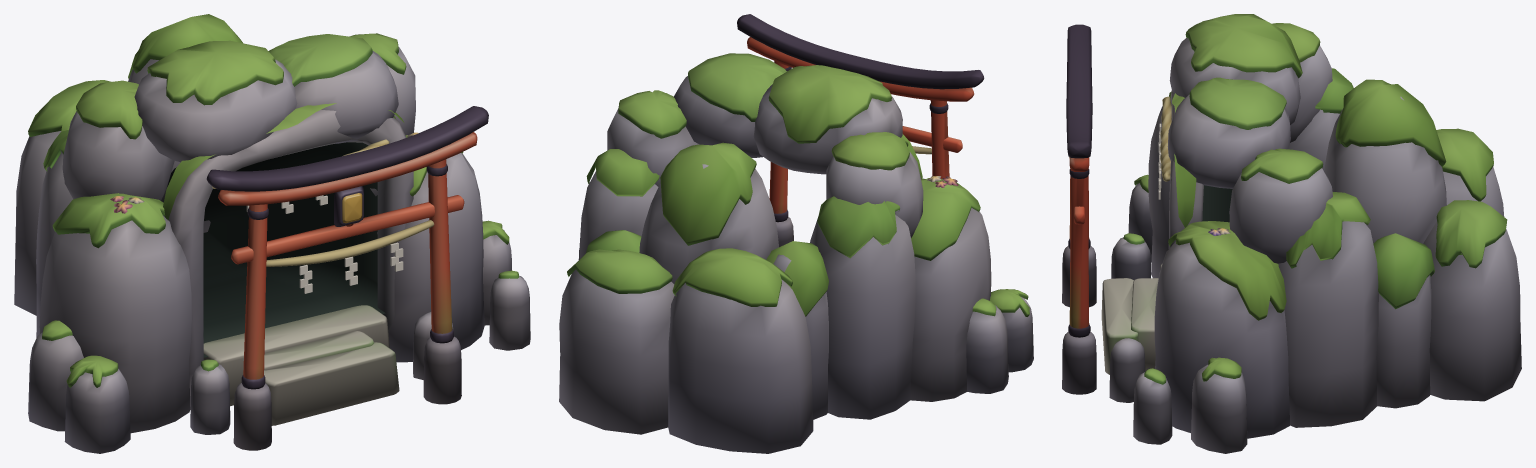
The model's file is gate-bamboo.glb.
3 renders of one model, left to right at view 1: azimuth 30°, elevation 25°; view 2: azimuth 150°, elevation 25°; view 3: azimuth 270°, elevation 25°, orthographic. The views are drawn at different scales.
Visible parts, largest first — view 1: gate_bamboo; view 2: gate_bamboo; view 3: gate_bamboo.
Part boxes in pixels (x1=…): gate_bamboo: x1=14, y1=14, x2=530, y2=453; gate_bamboo: x1=559, y1=14, x2=1033, y2=453; gate_bamboo: x1=1062, y1=14, x2=1521, y2=453.
Size of the model in its own units: 7.86 by 4.94 by 6.98.
